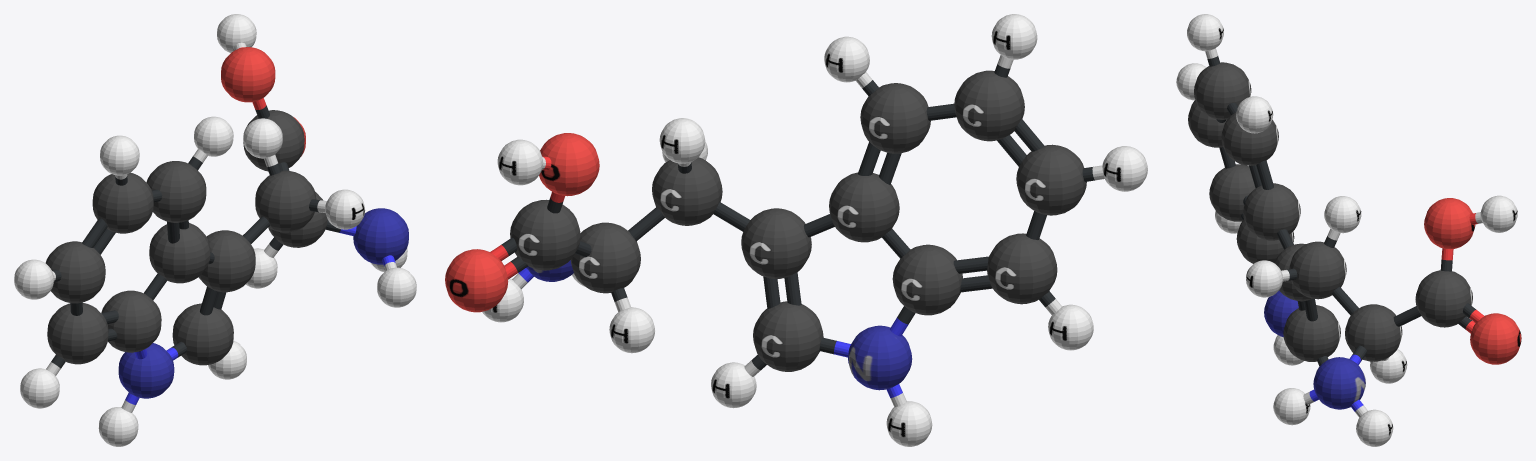
The model's file is Triptófano.fbx.
3 renders of one model, left to right at view 1: azimuth 30°, elevation 25°; view 2: azimuth 150°, elevation 25°; view 3: azimuth 270°, elevation 25°, orthographic. The views are drawn at different scales.
Parts seen in each view (by area): view 1: Shape_Sphere.029; view 2: Shape_Sphere.029; view 3: Shape_Sphere.029.
Boxes of the visible parts, left/top/right/bottom form: Shape_Sphere.029: left=14, top=14, right=416, bottom=446; Shape_Sphere.029: left=445, top=14, right=1147, bottom=446; Shape_Sphere.029: left=1176, top=14, right=1521, bottom=446.
Bounding box in the file's own units: 27.57 × 19.16 × 18.31.
Materials: 8 (4 with a texture image).
